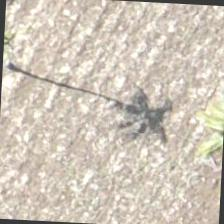Kelapa_Sawit: (1, 0, 58, 93)
